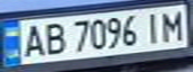0: (87, 16, 109, 51)
6: (121, 11, 145, 47)
7: (66, 17, 90, 53)
9: (106, 15, 127, 49)
A: (18, 21, 48, 59)
B: (39, 20, 69, 56)
I: (139, 10, 166, 44)
M: (157, 7, 190, 42)
